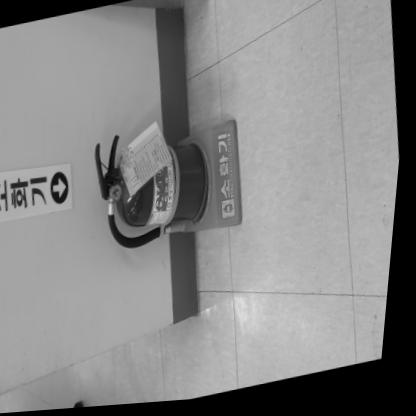FE: (89, 115, 255, 258)
